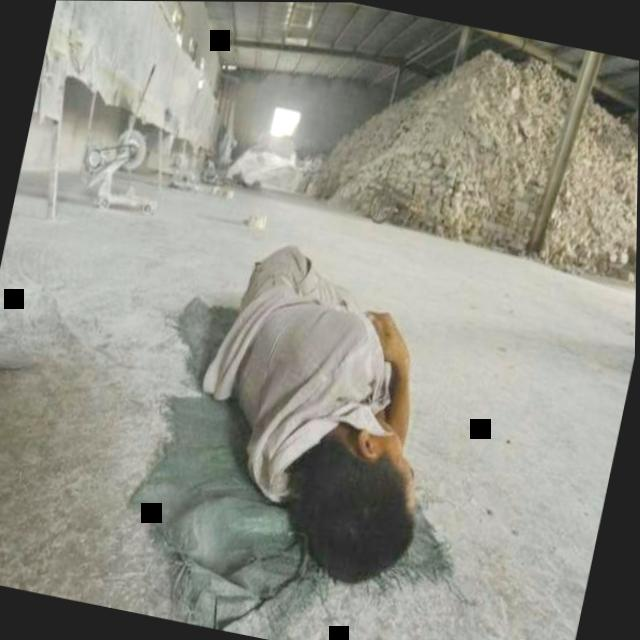Fall-Detected: (135, 213, 499, 595)
